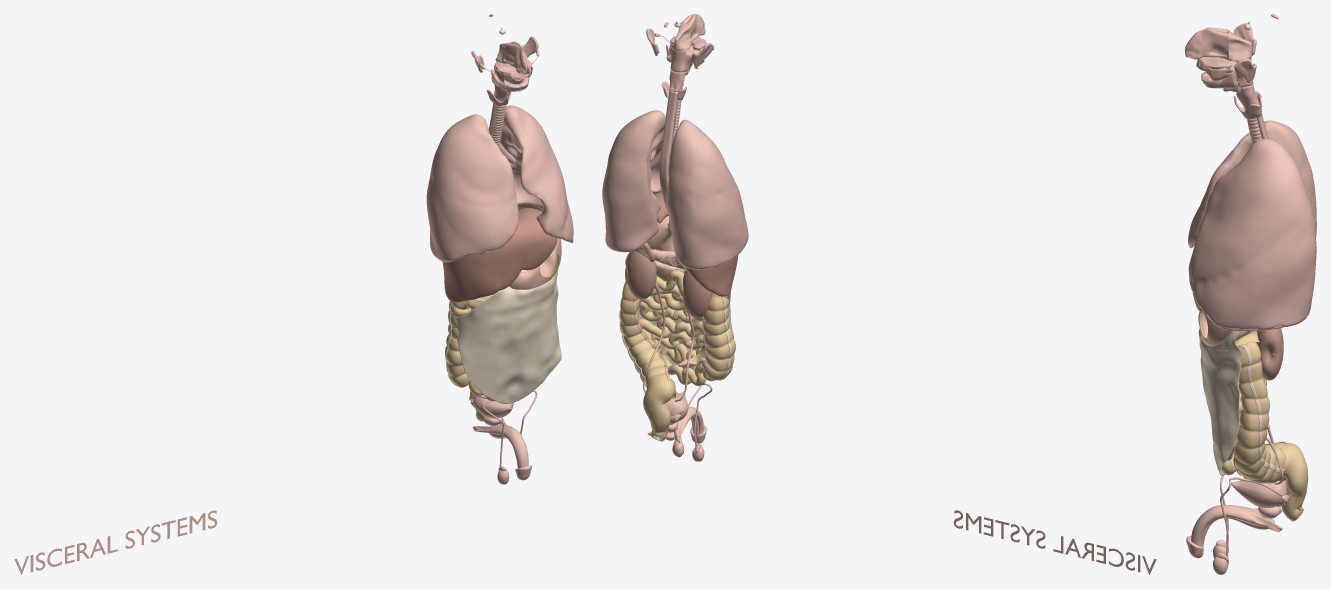
Rendered from visceral.glb.
3 views of the same model, side by side, from view 1: azimuth 30°, elevation 25°; view 2: azimuth 150°, elevation 25°; view 3: azimuth 270°, elevation 25° (orthographic). The views are drawn at different scales.
Visible parts, largest first — view 1: Pleura.001, Greater omentum.001, Liver.001, Visceral systems.g.001, Ascending colon.001, Corpus cavernosum of penis.001, Stomach.001; view 2: Pleura.001, Jejunum.001, Ascending colon.001, Descending colon.001, Visceral systems.g.001, Sigmoid colon.001, Liver.001, Kidney.l.001, Oesophagus.001, Kidney.r.001; view 3: Pleura.001, Greater omentum.001, Descending colon.001, Sigmoid colon.001, Corpus cavernosum of penis.001, Mucosa of nasal cavity.001, Kidney.l.001, Urinary bladder.001, Gingiva.001, Mesocolic taenia.001, Nasopharynx.001, Stomach.001 (+13 smaller).
Part boxes in pixels (x1,y1,x2,y2): Pleura.001: [426, 105, 573, 261]; Greater omentum.001: [454, 269, 561, 403]; Liver.001: [442, 208, 557, 302]; Visceral systems.g.001: [14, 510, 217, 574]; Ascending colon.001: [445, 301, 470, 387]; Corpus cavernosum of penis.001: [472, 419, 528, 468]; Stomach.001: [509, 238, 561, 289]; Pleura.001: [602, 110, 748, 269]; Jejunum.001: [638, 276, 714, 386]; Ascending colon.001: [703, 293, 735, 380]; Descending colon.001: [620, 253, 675, 398]; Visceral systems.g.001: [953, 510, 1156, 574]; Sigmoid colon.001: [643, 374, 675, 441]; Liver.001: [654, 192, 738, 296]; Kidney.l.001: [627, 250, 656, 299]; Oesophagus.001: [659, 90, 678, 227]; Kidney.r.001: [683, 270, 712, 318]; Pleura.001: [1188, 120, 1316, 329]; Greater omentum.001: [1198, 329, 1242, 475]; Descending colon.001: [1234, 341, 1286, 483]; Sigmoid colon.001: [1280, 443, 1308, 521]; Corpus cavernosum of penis.001: [1191, 505, 1282, 546]; Mucosa of nasal cavity.001: [1185, 27, 1228, 60]; Kidney.l.001: [1256, 328, 1283, 380]; Urinary bladder.001: [1231, 479, 1286, 507]; Gingiva.001: [1196, 57, 1236, 88]; Mesocolic taenia.001: [1238, 344, 1284, 473]; Nasopharynx.001: [1228, 30, 1252, 61]; Stomach.001: [1198, 311, 1250, 345].
Bounding box in the file's own units: 1.13 × 0.8931 × 0.1926.
